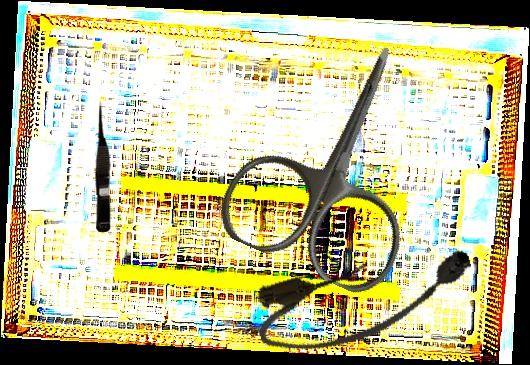Cannula: (248, 235, 483, 365)
Iris Scissors: (208, 11, 474, 304)
Micro Scissor: (93, 100, 114, 233)
